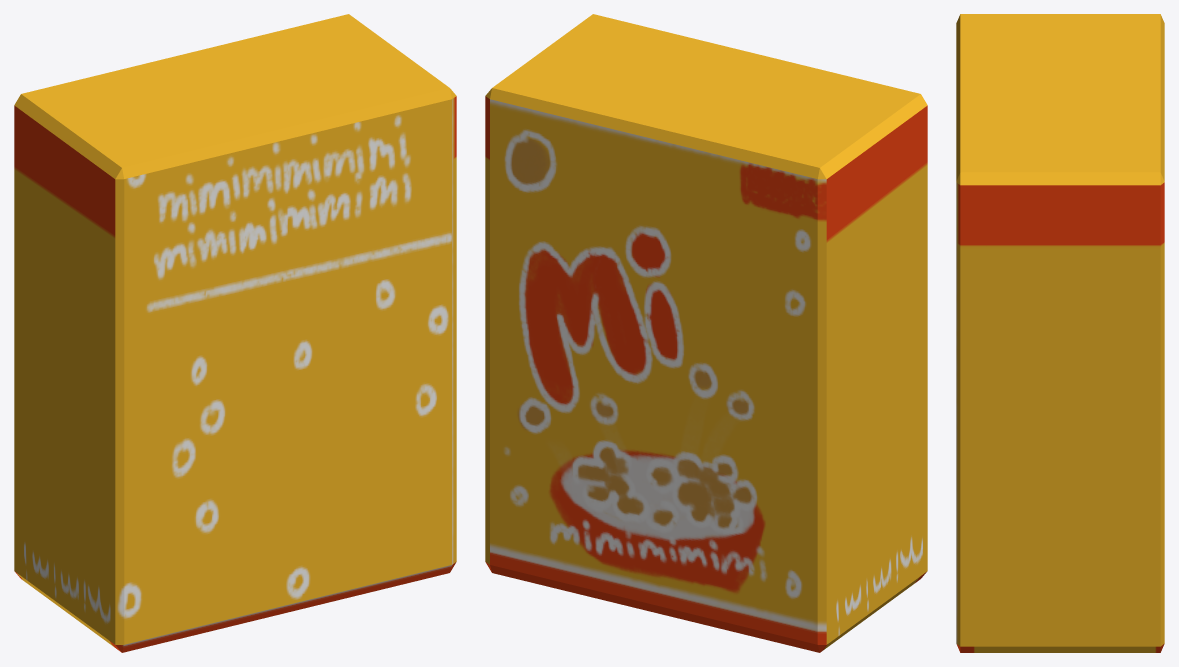
File: micereal.fbx
The picture shows the model from 3 angles, left to right: view 1: azimuth 30°, elevation 25°; view 2: azimuth 150°, elevation 25°; view 3: azimuth 270°, elevation 25°; orthographic projection.
Parts seen in each view (by area): view 1: cereal; view 2: cereal; view 3: cereal.
Part boxes in pixels (x1=…): cereal: x1=14, y1=14, x2=456, y2=652; cereal: x1=485, y1=14, x2=927, y2=652; cereal: x1=956, y1=14, x2=1164, y2=652.
Size of the model in its own units: 133 by 181 by 71.03.
